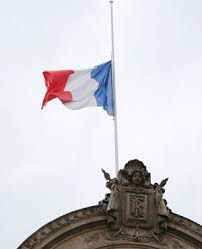French Flag: (44, 61, 114, 116)
